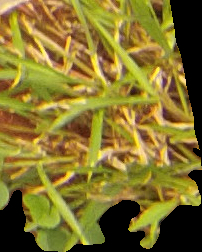grass: (1, 1, 201, 251)
